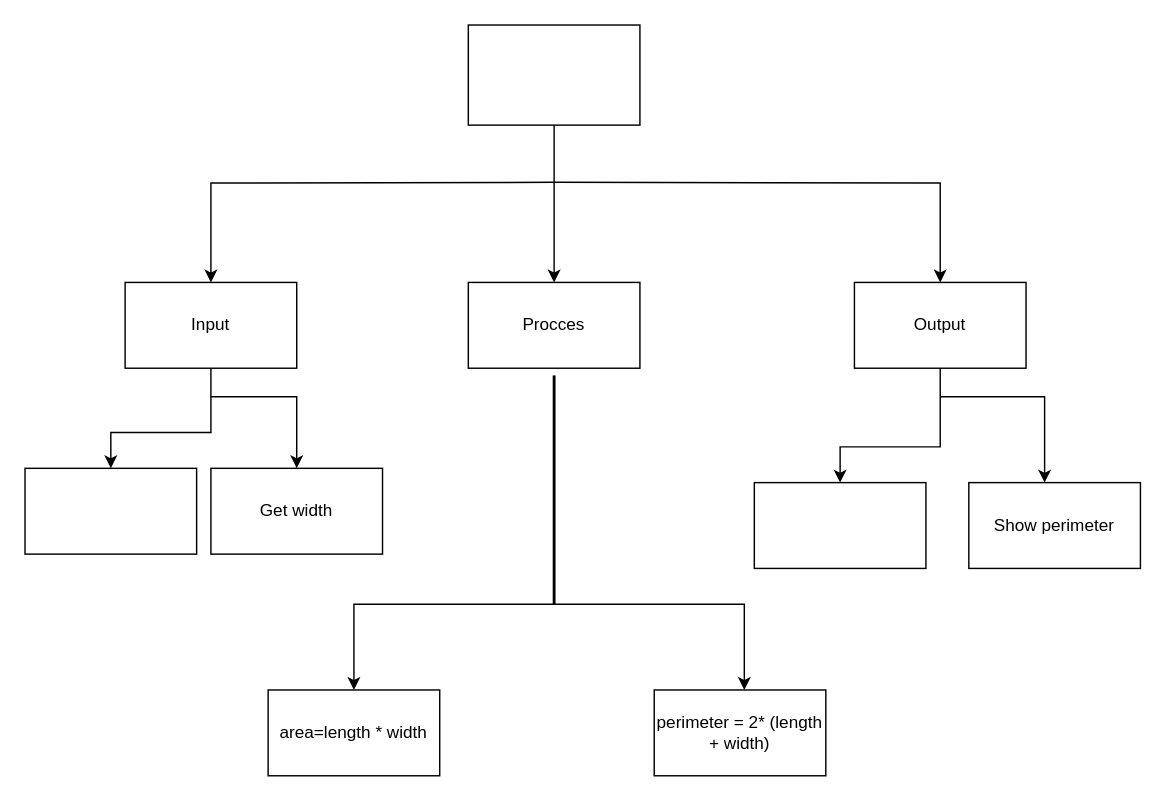
Image size: 1165x801. Some labels were removed from this diagram. Each missing label, with the box of its shape:
Area and Perimeter of Rectangle: (467, 24, 640, 125)
Get length: (24, 467, 197, 554)
Show area: (753, 481, 926, 568)
